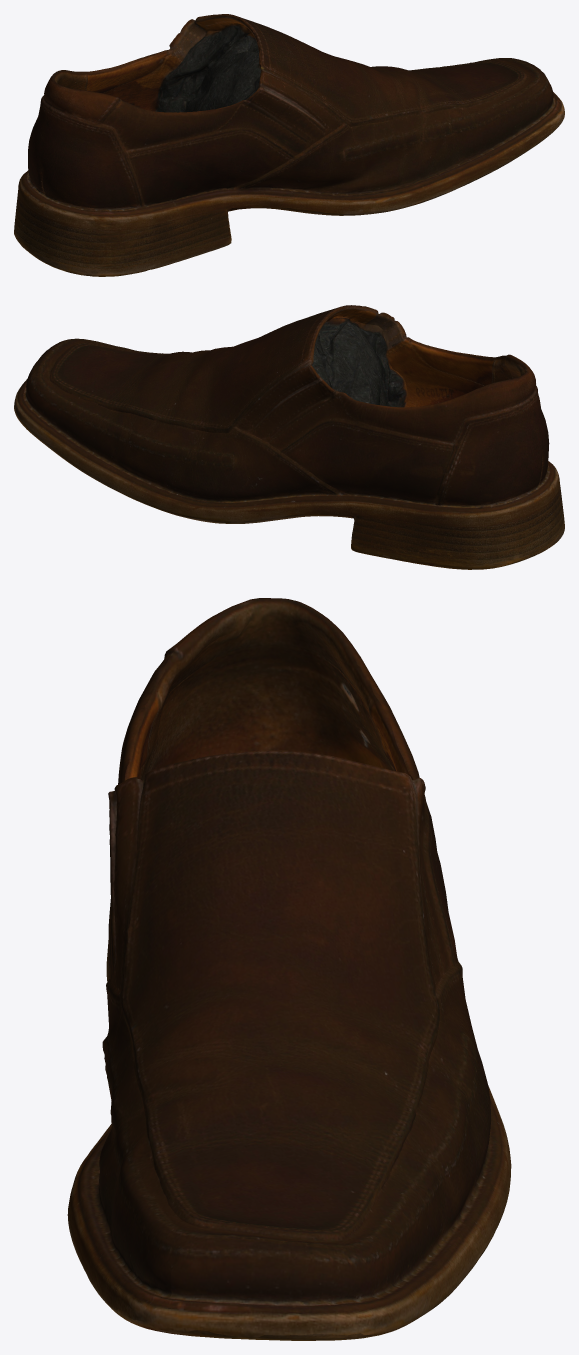
Rendered from Old_Oxford_Shoe.glb.
3 views of the same model, one above another, from view 1: azimuth 30°, elevation 25°; view 2: azimuth 150°, elevation 25°; view 3: azimuth 270°, elevation 25° (orthographic). The views are drawn at different scales.
Parts seen in each view (by area): view 1: sh_oldOxfordShoe_obj_cleaner_materialmerger_gles; view 2: sh_oldOxfordShoe_obj_cleaner_materialmerger_gles; view 3: sh_oldOxfordShoe_obj_cleaner_materialmerger_gles.
Boxes of the visible parts, box(x1,y1,x2,y2) form: sh_oldOxfordShoe_obj_cleaner_materialmerger_gles: box(14, 14, 564, 276); sh_oldOxfordShoe_obj_cleaner_materialmerger_gles: box(14, 305, 564, 569); sh_oldOxfordShoe_obj_cleaner_materialmerger_gles: box(67, 598, 511, 1340).
Size of the model in its own units: 0.2913 by 0.102 by 0.1083.
1 material, 1 textured.
